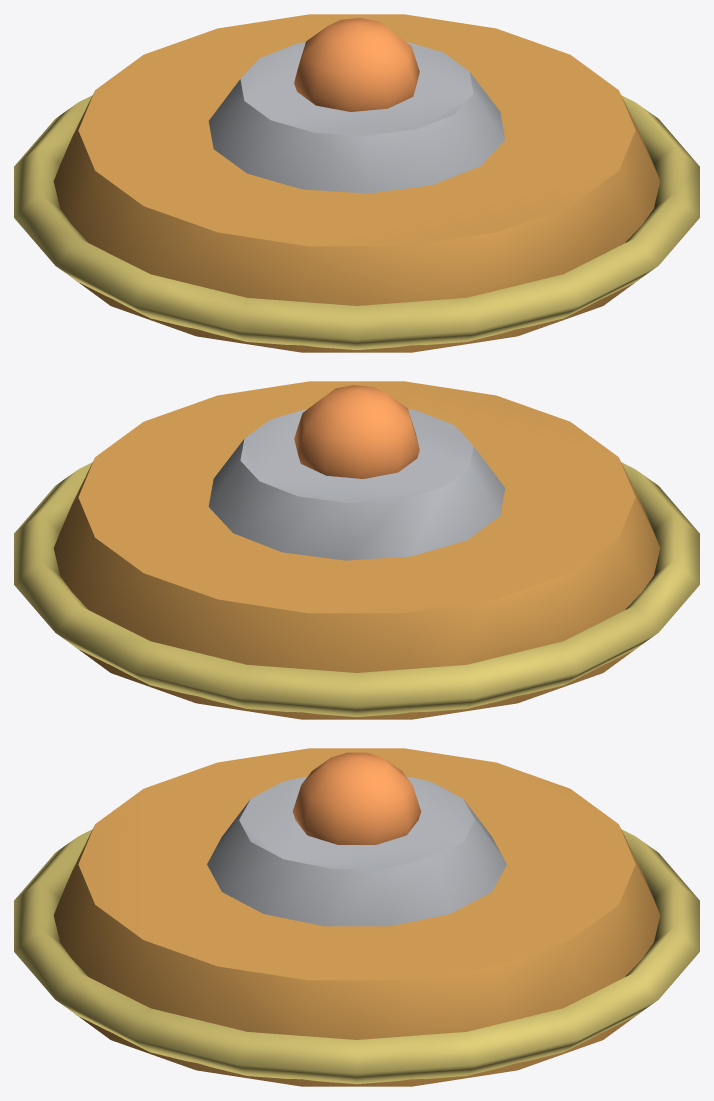
The model's file is FireMine.fbx.
The picture shows the model from 3 angles, top to bottom: view 1: azimuth 30°, elevation 25°; view 2: azimuth 150°, elevation 25°; view 3: azimuth 270°, elevation 25°; orthographic projection.
Visible parts, largest first — view 1: FireMine; view 2: FireMine; view 3: FireMine.
Part boxes in pixels (left/top/right/bottom): FireMine: left=14, top=14, right=699, bottom=352; FireMine: left=14, top=381, right=699, bottom=719; FireMine: left=14, top=748, right=699, bottom=1086.
Bounding box in the file's own units: 2.14 × 0.66 × 2.11.
